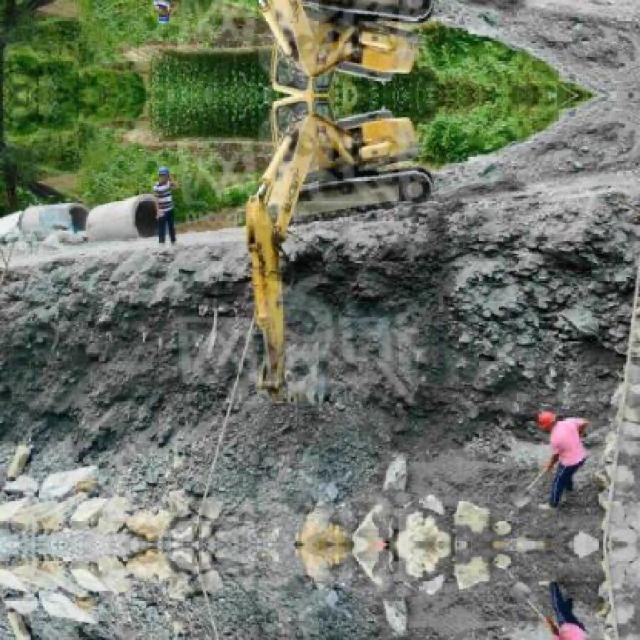helmet: (537, 409, 558, 431), (157, 163, 172, 182), (157, 6, 172, 25)
